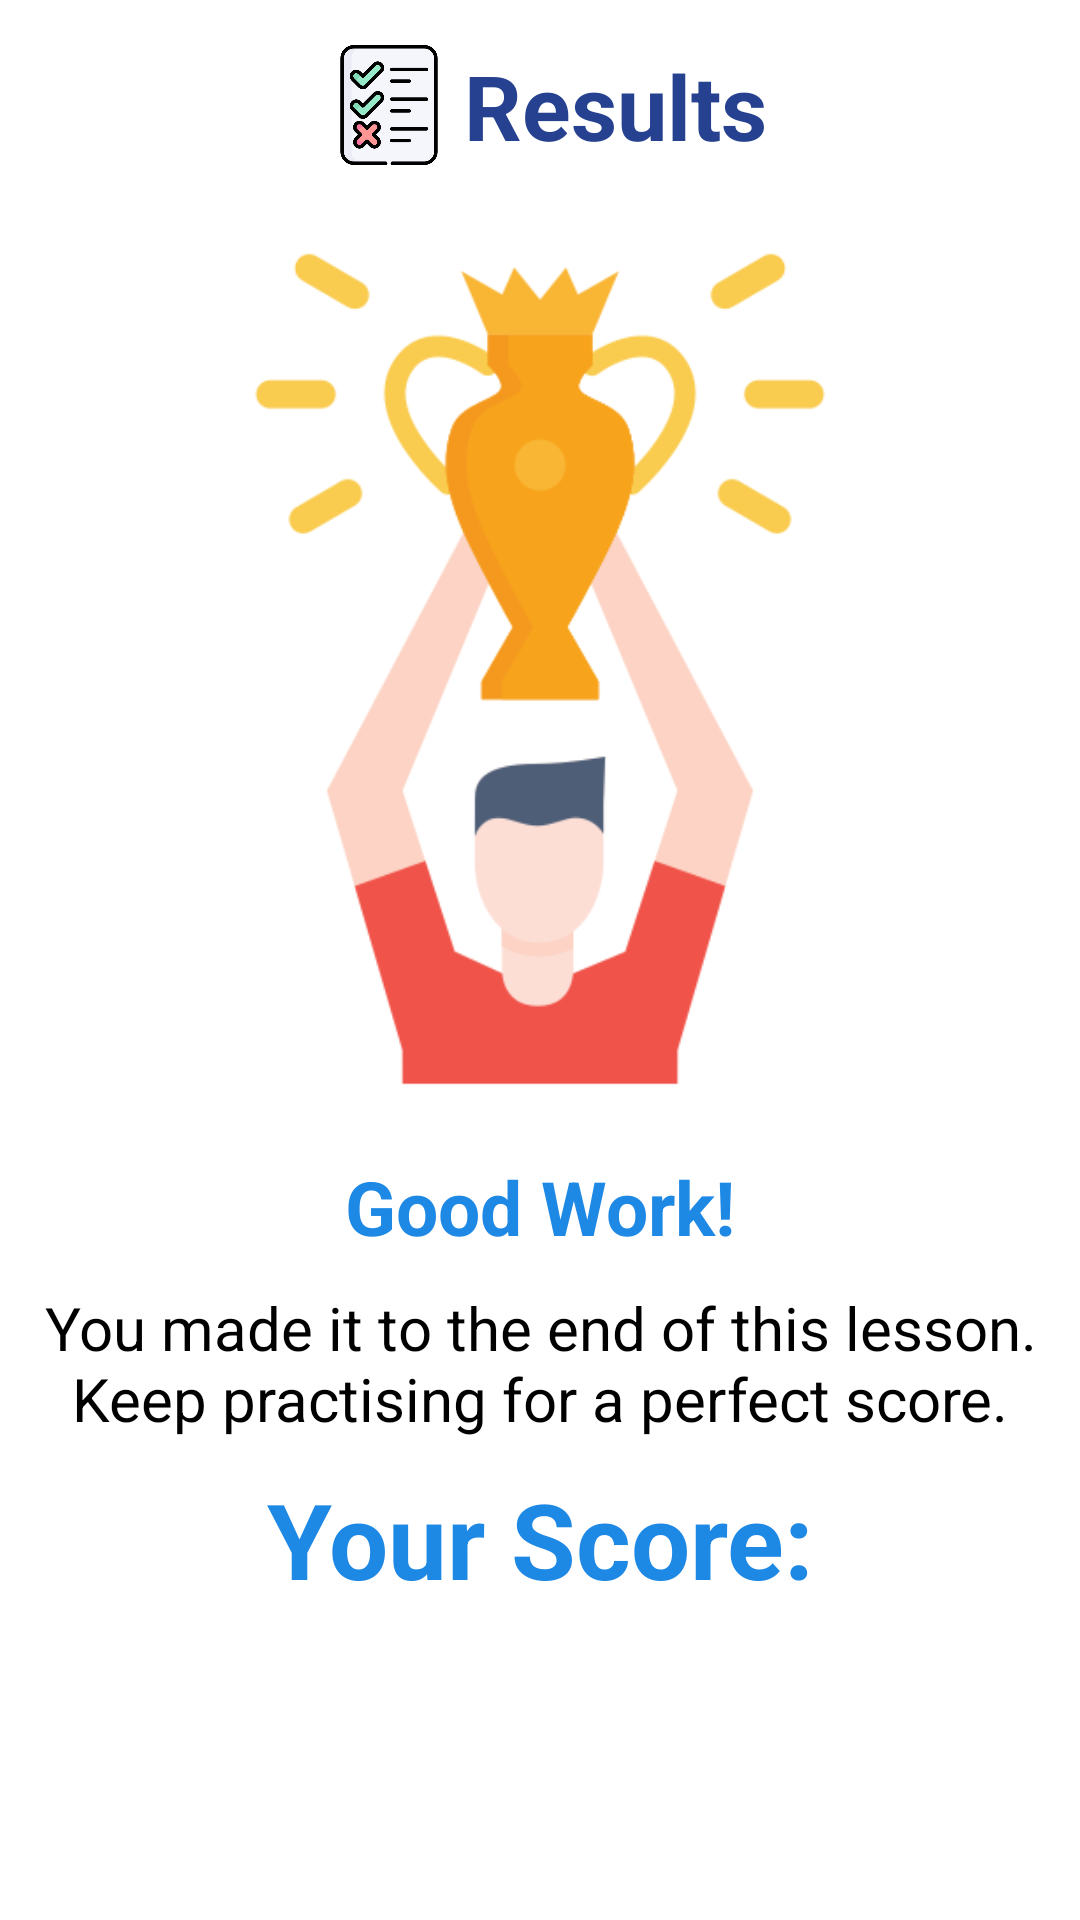

Screen size 1080px×1920px. Icon name, then its box in pixels as (x1, y1, x2, y2):
exam: (340, 45, 438, 165)
